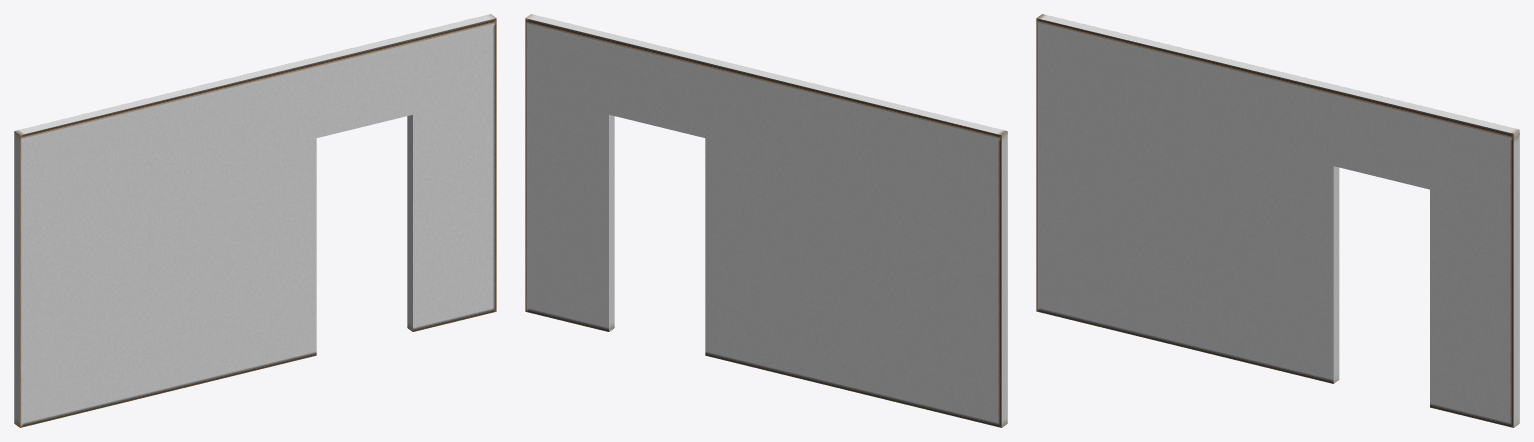
The model's file is door wall.FBX.
3 views of the same model, side by side, from view 1: azimuth 30°, elevation 25°; view 2: azimuth 150°, elevation 25°; view 3: azimuth 330°, elevation 25° (orthographic).
Parts seen in each view (by area): view 1: door wall; view 2: door wall; view 3: door wall.
Boxes of the visible parts, x1=… form: door wall: x1=14, y1=14, x2=496, y2=427; door wall: x1=525, y1=14, x2=1007, y2=427; door wall: x1=1036, y1=14, x2=1519, y2=427.
Size of the model in its own units: 550 by 11.5 by 324.
1 material, 1 textured.
